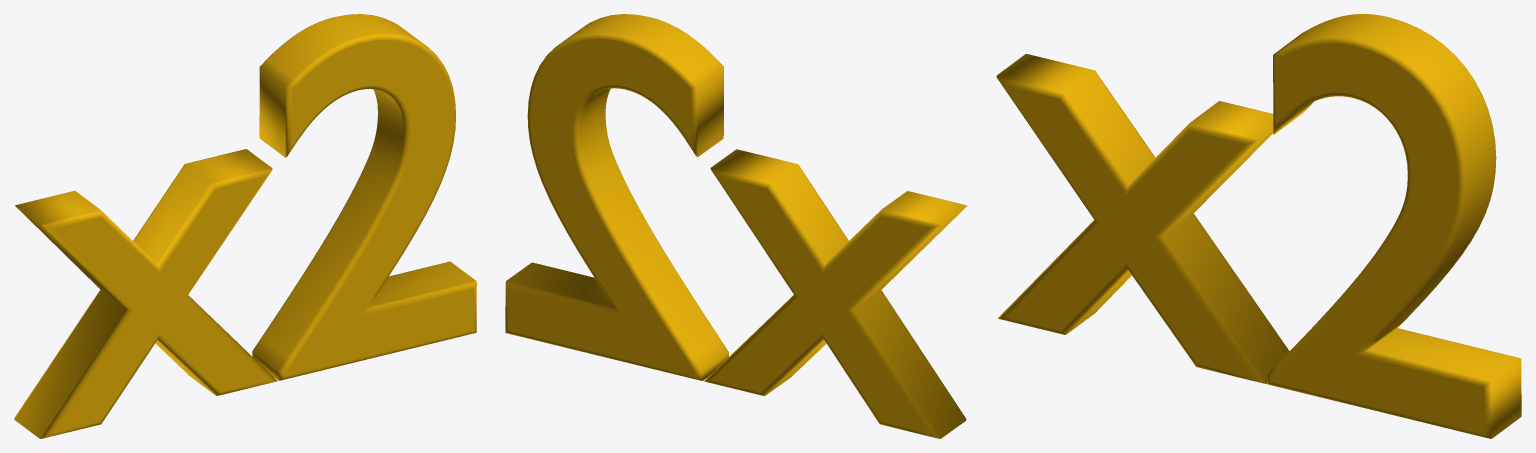
Rendered from DoublePointsModel 1.fbx.
3 renders of one model, left to right at view 1: azimuth 30°, elevation 25°; view 2: azimuth 150°, elevation 25°; view 3: azimuth 330°, elevation 25°, orthographic. The views are drawn at different scales.
Visible parts, largest first — view 1: Text; view 2: Text; view 3: Text.
Part boxes in pixels (x1,y1,x2,y2): Text: (14, 14, 476, 438); Text: (505, 14, 967, 438); Text: (996, 14, 1521, 438).
Size of the model in its own units: 99.77 by 71.17 by 12.52.
